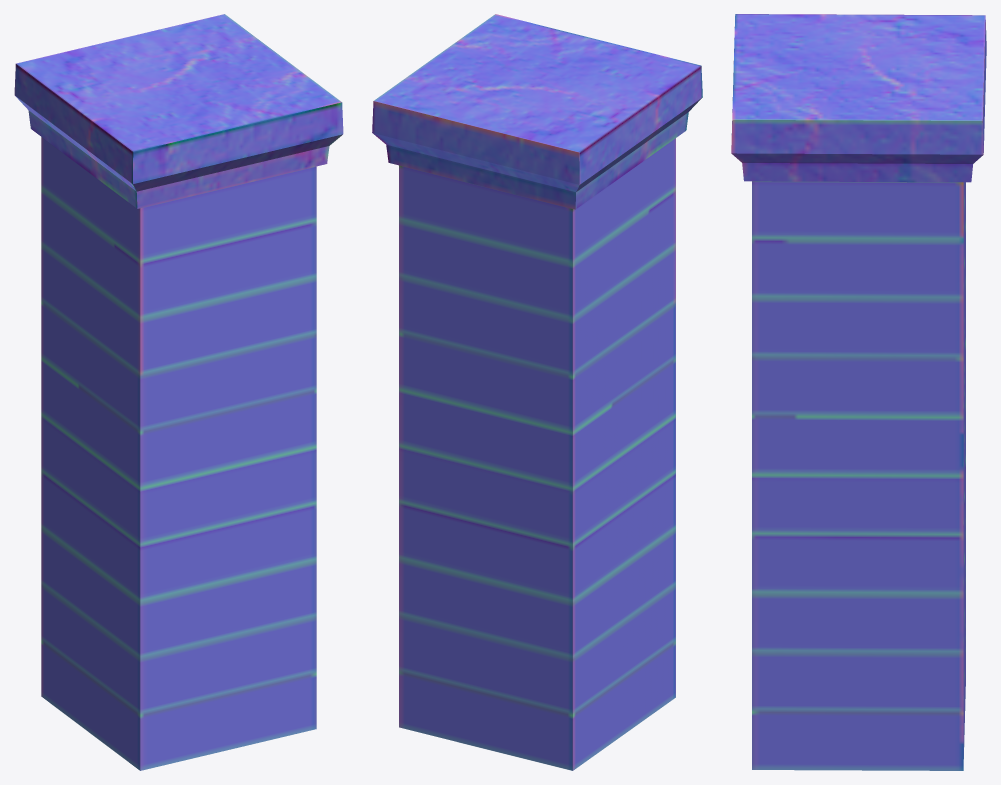
3 renders of one model, left to right at view 1: azimuth 30°, elevation 25°; view 2: azimuth 150°, elevation 25°; view 3: azimuth 270°, elevation 25°, orthographic. The views are drawn at different scales.
Visible parts, largest first — view 1: pillar_low_021__2_; view 2: pillar_low_021__2_; view 3: pillar_low_021__2_.
Boxes of the visible parts, x1,y1,x2,y2 form: pillar_low_021__2_: (14,14,343,770); pillar_low_021__2_: (372,14,702,770); pillar_low_021__2_: (731,14,986,770).
Size of the model in its own units: 37.93 by 108 by 37.93.
